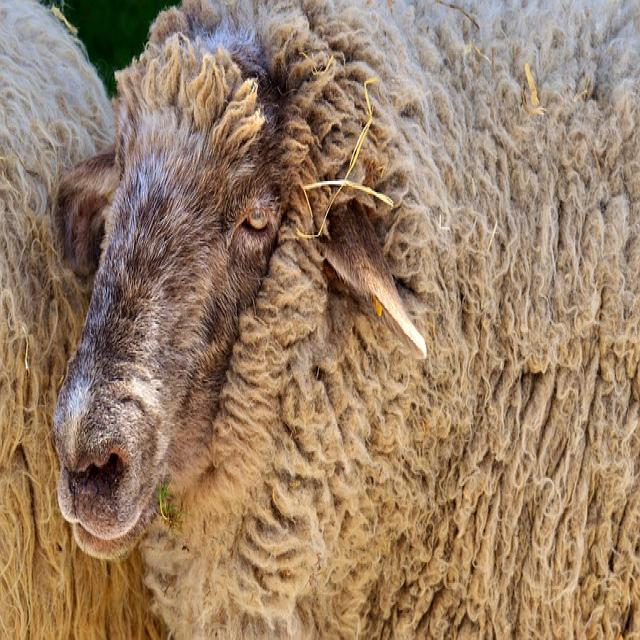sheep: (49, 0, 639, 638), (0, 0, 168, 638)
